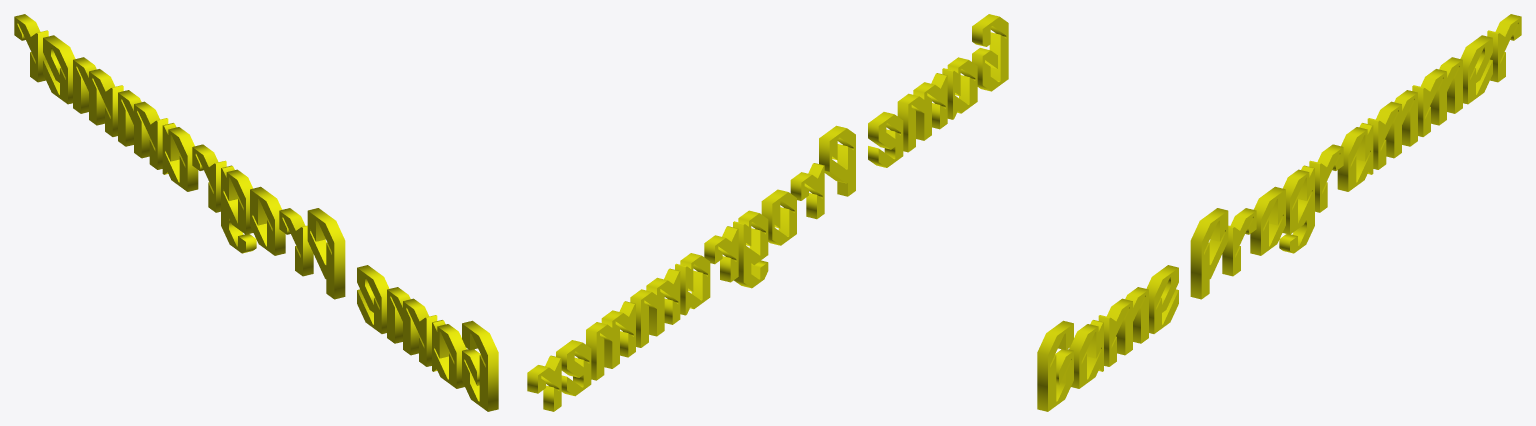
File: GameProgrammer.glb
The picture shows the model from 3 angles, left to right: view 1: azimuth 30°, elevation 25°; view 2: azimuth 150°, elevation 25°; view 3: azimuth 330°, elevation 25°; orthographic projection.
Parts seen in each view (by area): view 1: Text; view 2: Text; view 3: Text.
Boxes of the visible parts, <box> form: Text: <box>14,14,498,411</box>; Text: <box>527,14,1008,411</box>; Text: <box>1037,14,1521,411</box>.
Bounding box in the file's own units: 0.1 × 0.8054 × 7.59.
